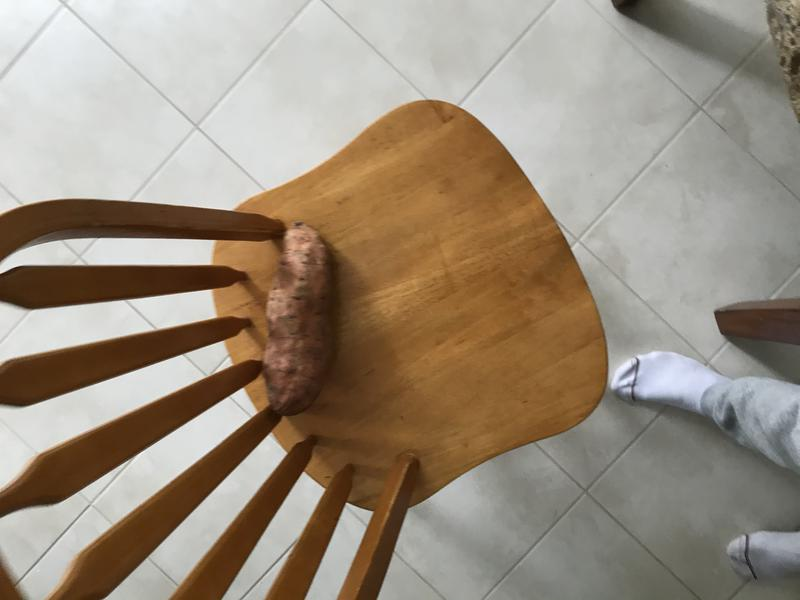sweet_potato: (250, 216, 347, 423)
